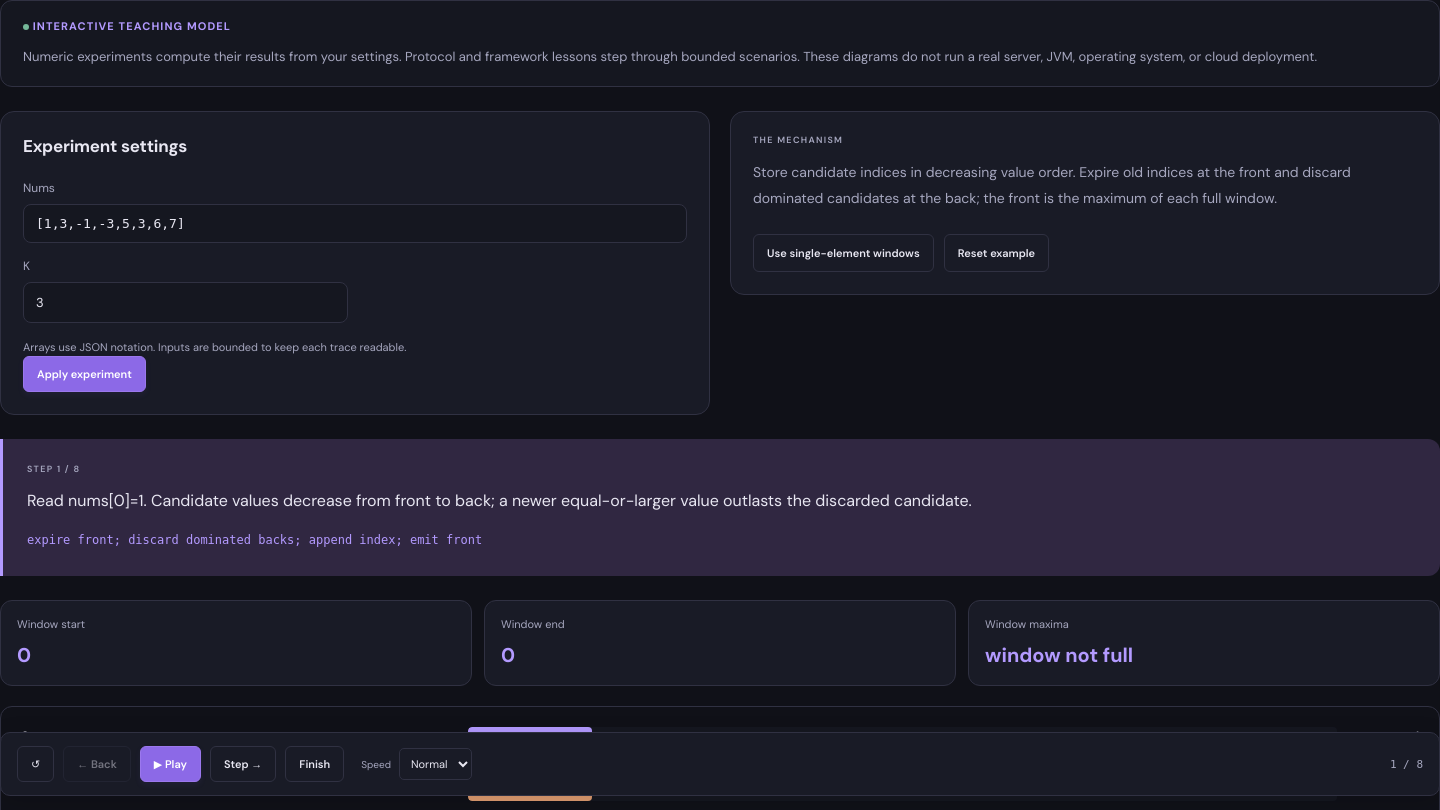
Test case: adv-deque supports valid alternate input, finish and highlighted code
Click the button "Use single-element windows".
click(843, 253)  # box [753,234,934,272]
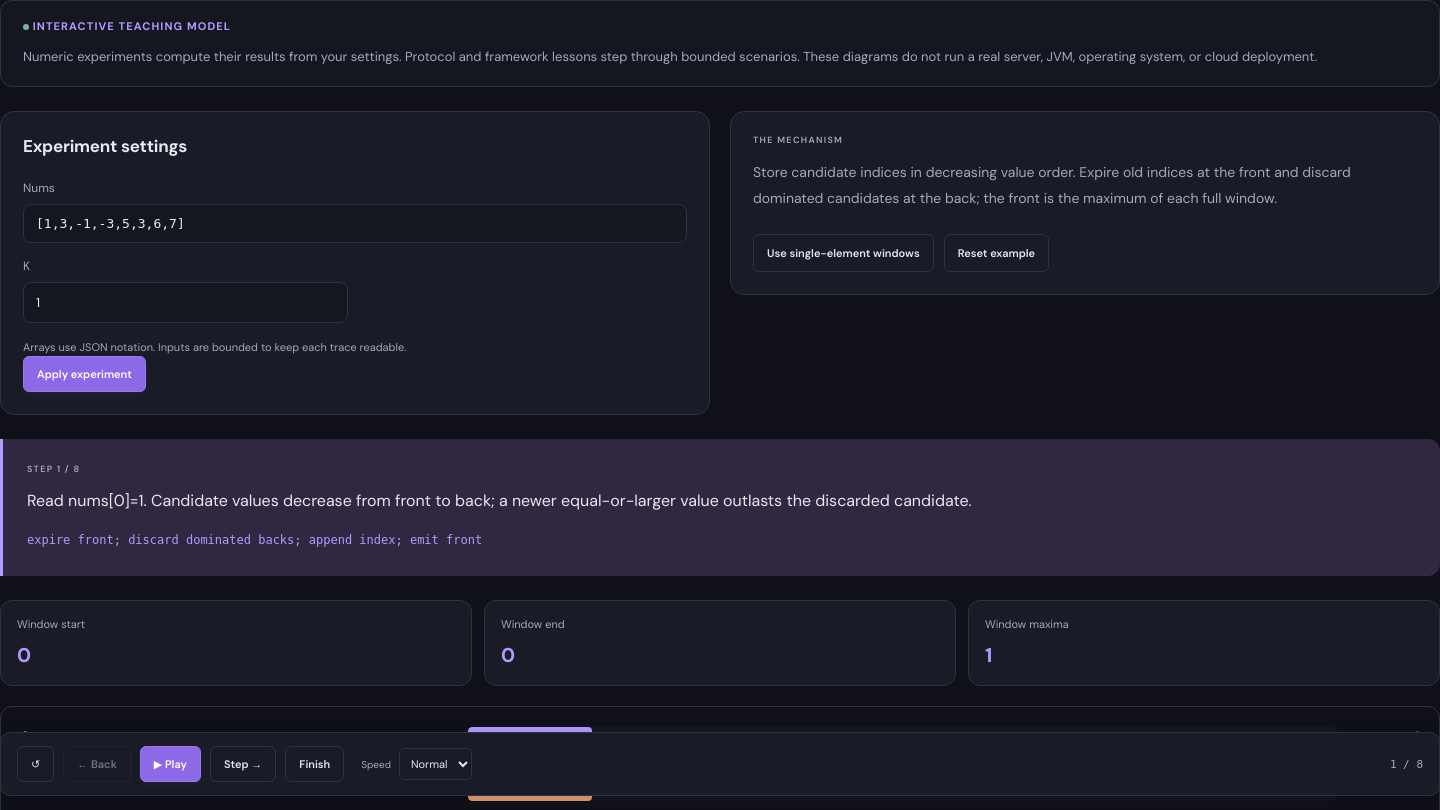
Click the button "Finish".
click(315, 764)  # box [285,746,344,782]
(page scrolled)
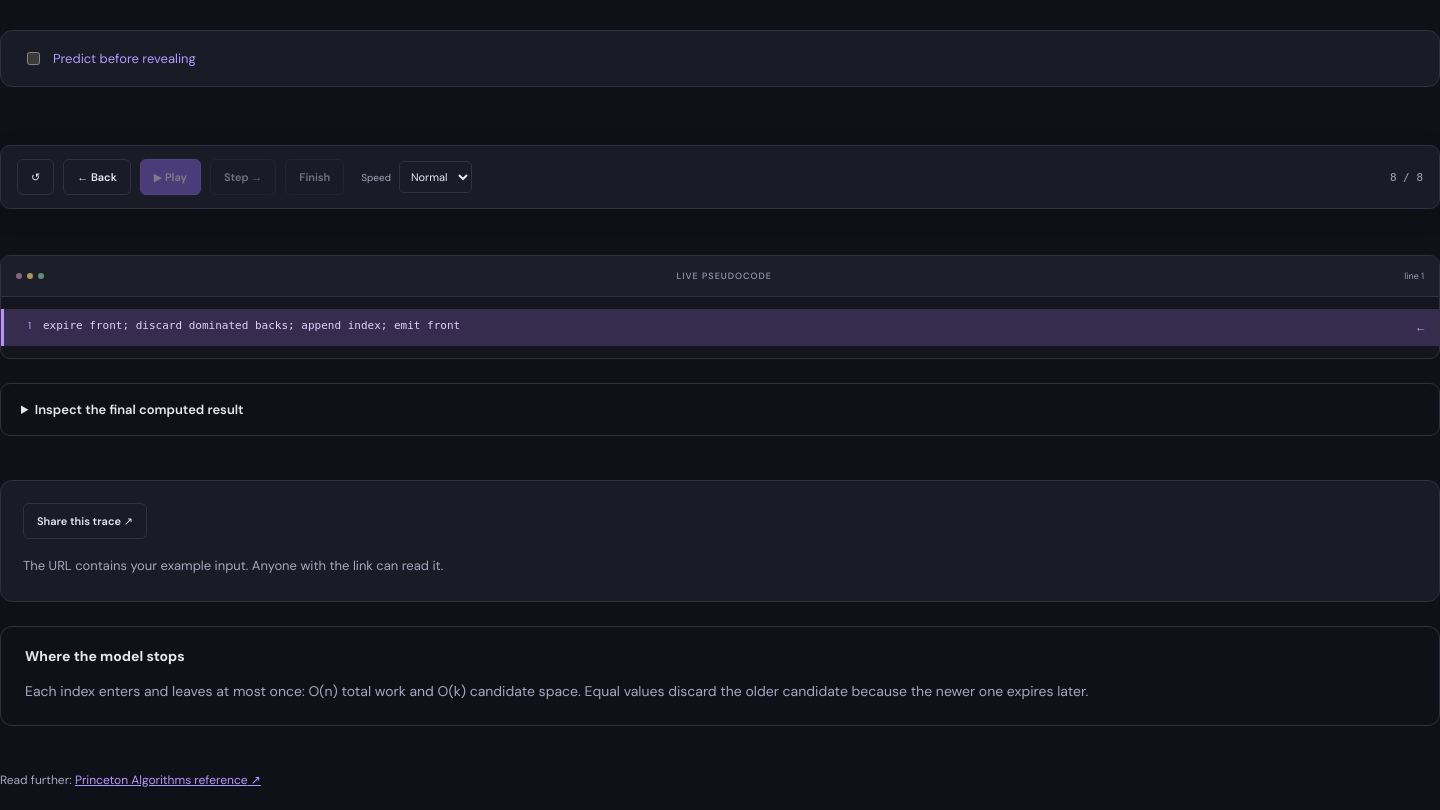
Check: the heading "Inspect the final computed result" is shown, box [35,400,244,418]
